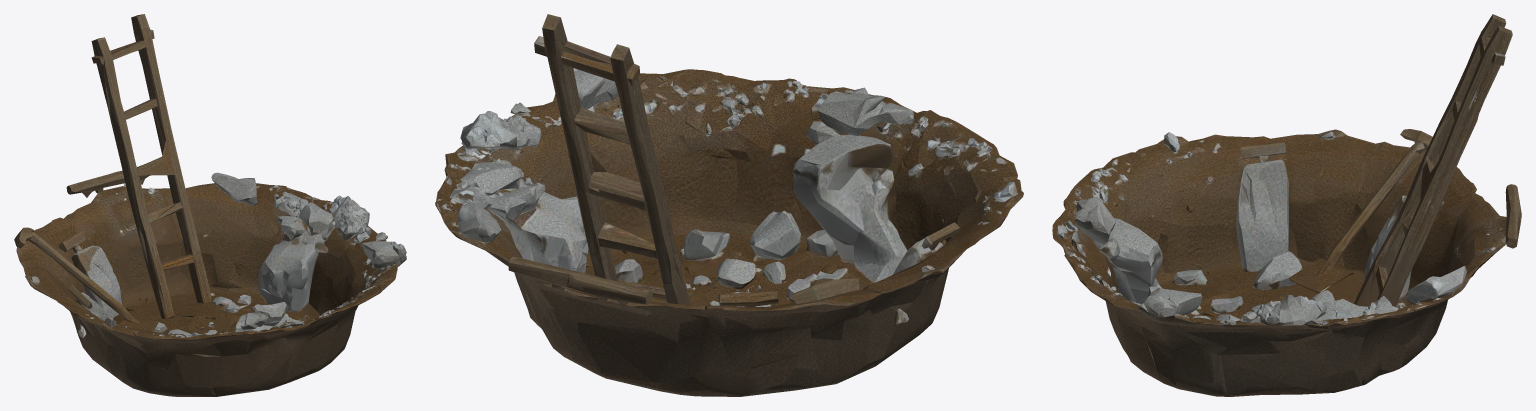
The model's file is pit.glb.
3 renders of one model, left to right at view 1: azimuth 30°, elevation 25°; view 2: azimuth 150°, elevation 25°; view 3: azimuth 270°, elevation 25°, orthographic. The views are drawn at different scales.
Size of the model in its own units: 1.87 by 1.43 by 1.89.
1 material, 1 textured.
